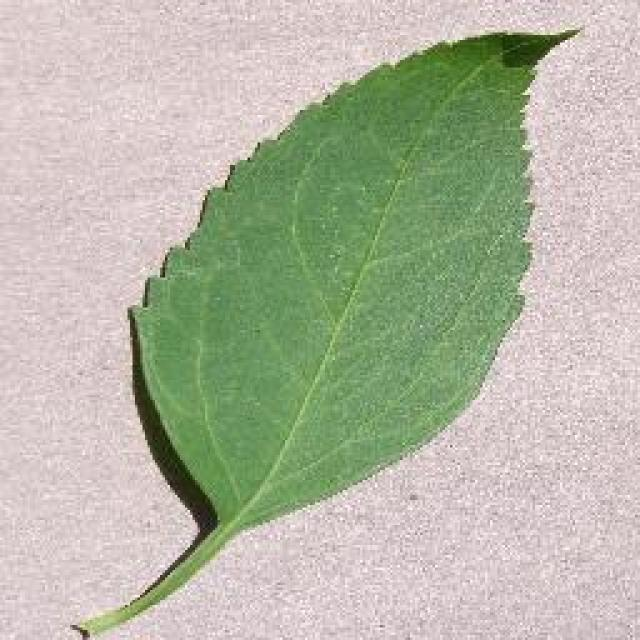Cherry___healthy: (50, 12, 580, 640)
